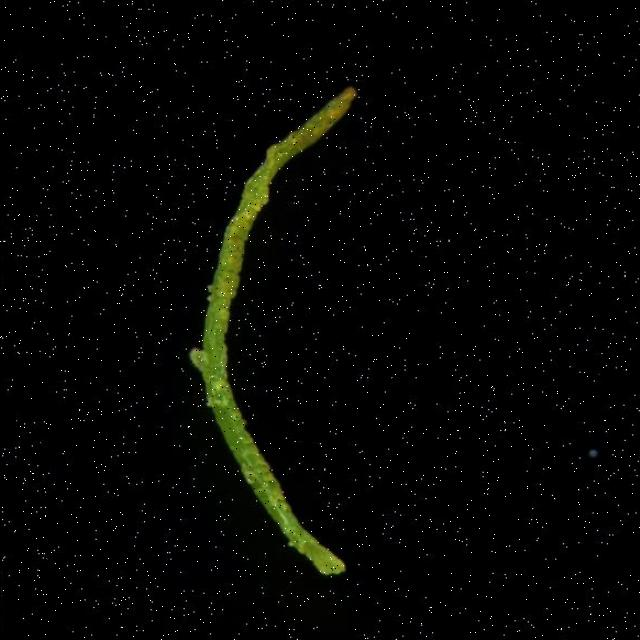Fibre: (185, 70, 372, 600)
